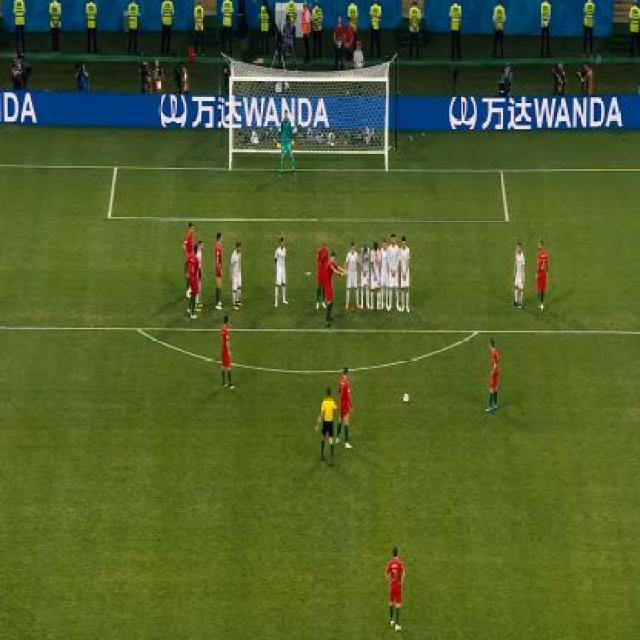ball: (402, 389, 411, 406)
player: (382, 540, 410, 634), (313, 381, 338, 466), (274, 110, 302, 179), (335, 363, 357, 449), (321, 249, 346, 323), (271, 233, 291, 309), (532, 235, 551, 314), (484, 335, 503, 414), (218, 315, 237, 391), (342, 240, 361, 313), (398, 234, 414, 314), (187, 242, 203, 321), (511, 239, 528, 310), (212, 229, 226, 312), (229, 239, 245, 310), (386, 232, 400, 312), (314, 239, 328, 310), (358, 242, 372, 311), (193, 239, 204, 315), (379, 237, 390, 310), (370, 239, 381, 310), (183, 221, 196, 258)
